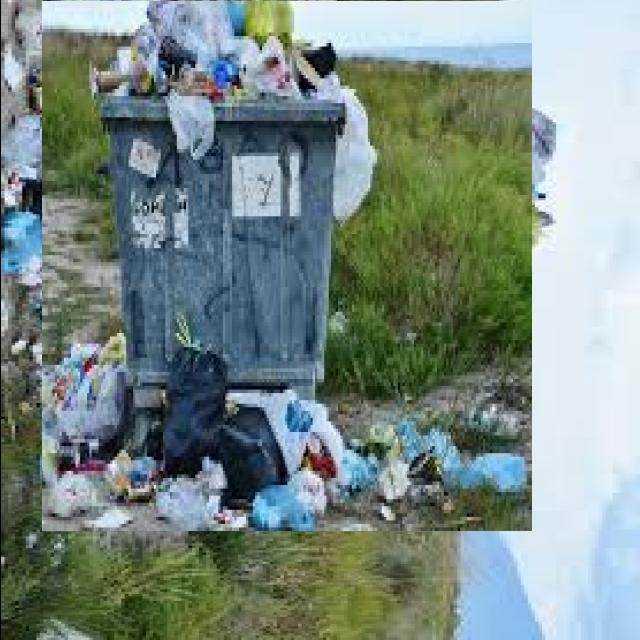garbage: (21, 0, 551, 512)
